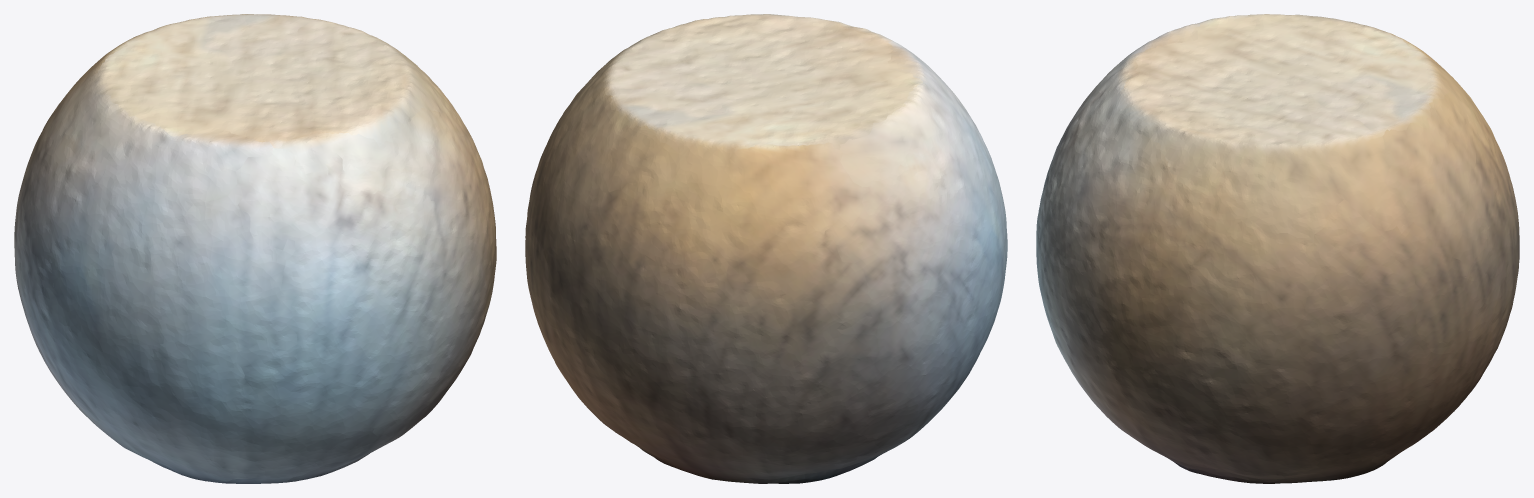
The model's file is table.obj.
3 renders of one model, left to right at view 1: azimuth 30°, elevation 25°; view 2: azimuth 150°, elevation 25°; view 3: azimuth 270°, elevation 25°, orthographic.
Visible parts, largest first — view 1: mesh; view 2: mesh; view 3: mesh.
Boxes of the visible parts, <box> form: mesh: <box>14,14,496,483</box>; mesh: <box>525,14,1007,483</box>; mesh: <box>1036,14,1519,483</box>.
Bounding box in the file's own units: 0.4913 × 0.3954 × 0.4911.
1 material, 1 textured.
